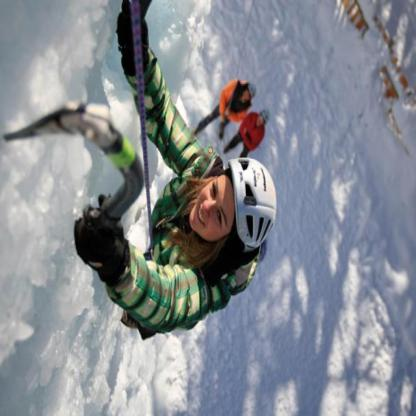face: (191, 175, 239, 242), (242, 88, 252, 102), (257, 116, 266, 127)
